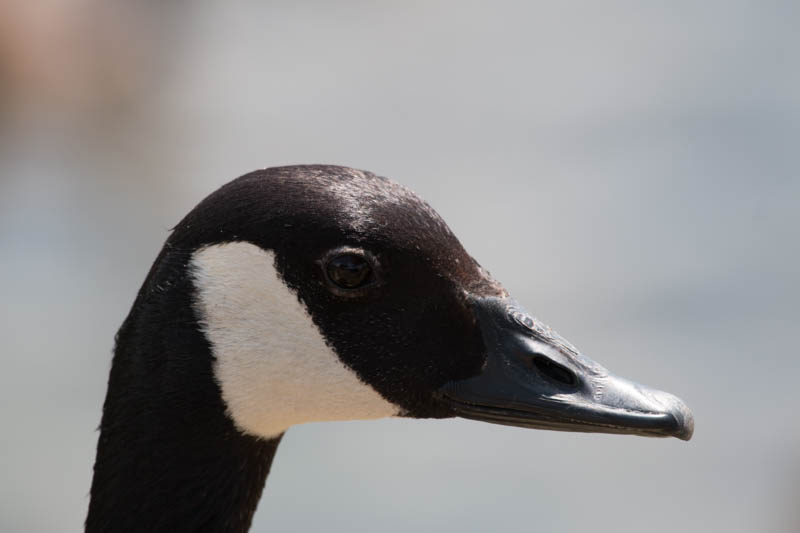goose-head: (102, 165, 694, 441)
